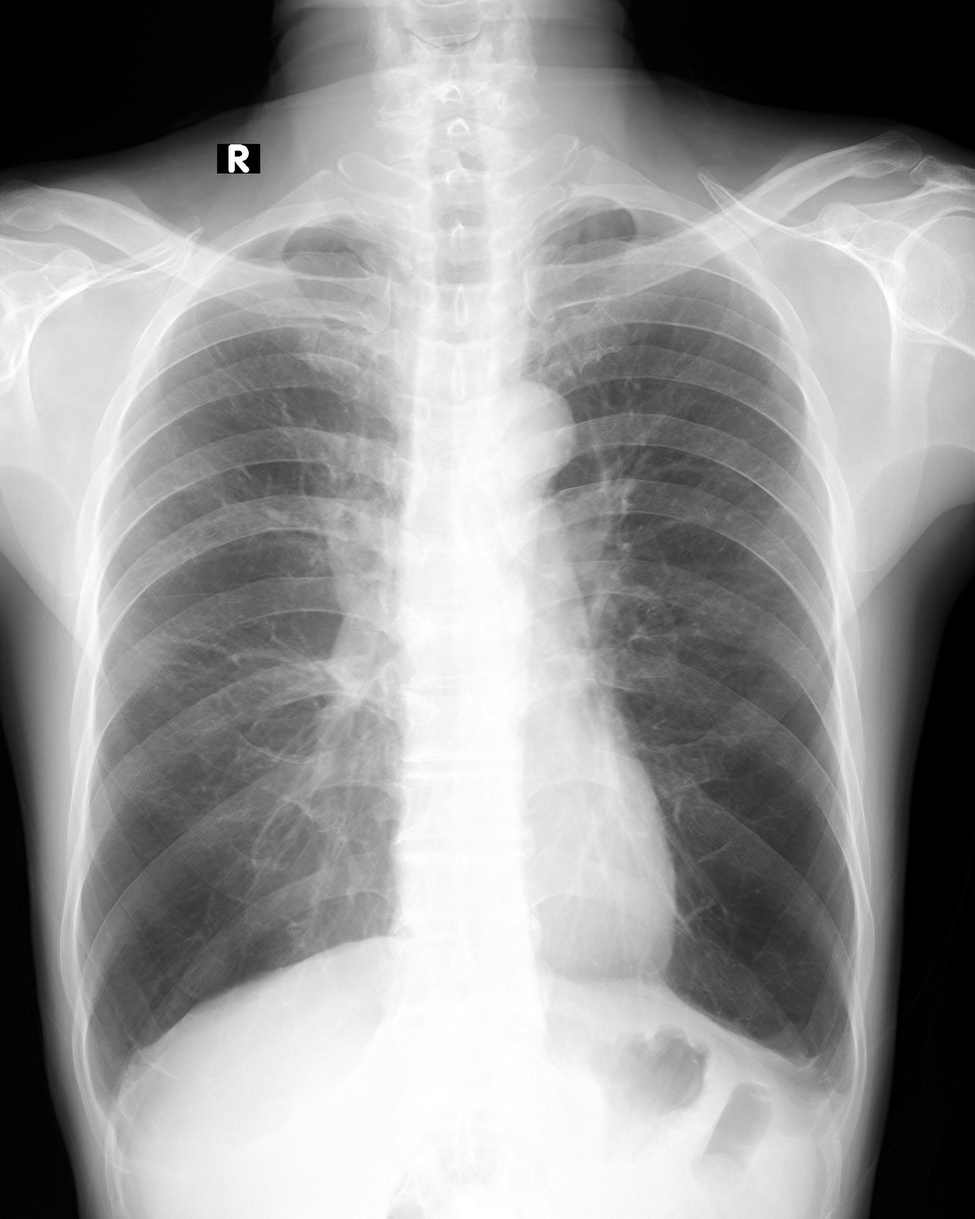Pleural thickening: (799, 1028, 864, 1121), (77, 1036, 126, 1134)
